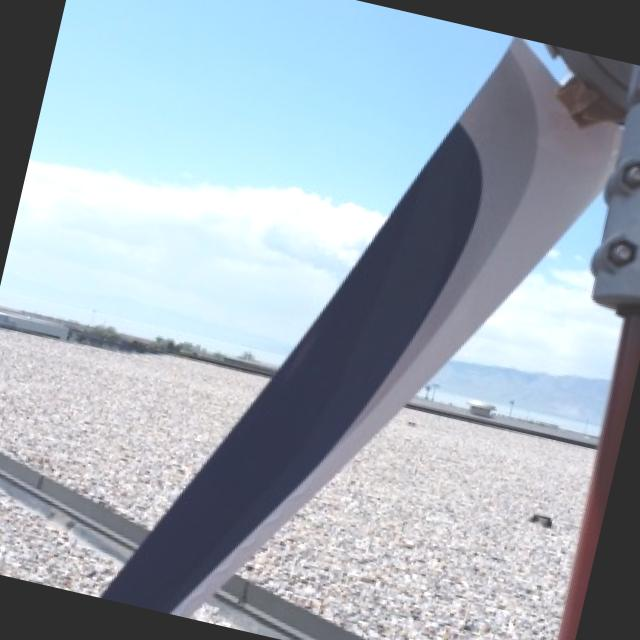healthy: (103, 37, 619, 615)
